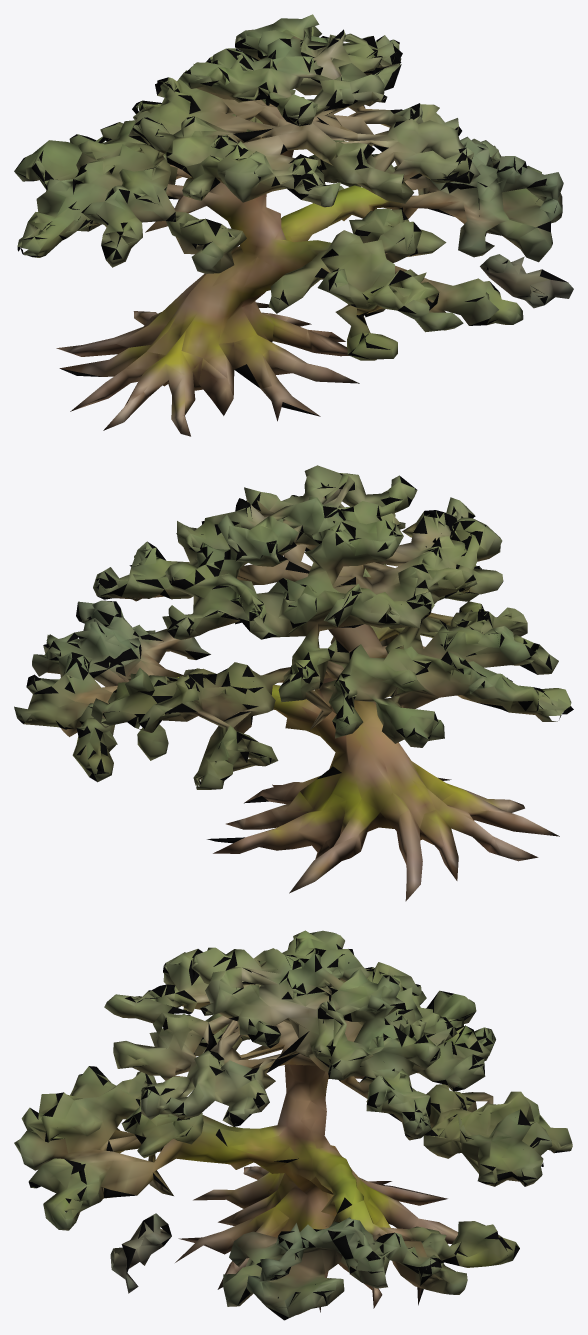
The model's file is tree_wide.glb.
3 views of the same model, one above another, from view 1: azimuth 30°, elevation 25°; view 2: azimuth 150°, elevation 25°; view 3: azimuth 270°, elevation 25° (orthographic).
Visible parts, largest first — view 1: MV_tree_wide; view 2: MV_tree_wide; view 3: MV_tree_wide.
Boxes of the visible parts, <box> form: MV_tree_wide: <box>14,14,573,436</box>; MV_tree_wide: <box>14,465,573,901</box>; MV_tree_wide: <box>14,930,572,1320</box>.
Bounding box in the file's own units: 10.06 × 5.8 × 9.05.
1 material, 1 textured.
